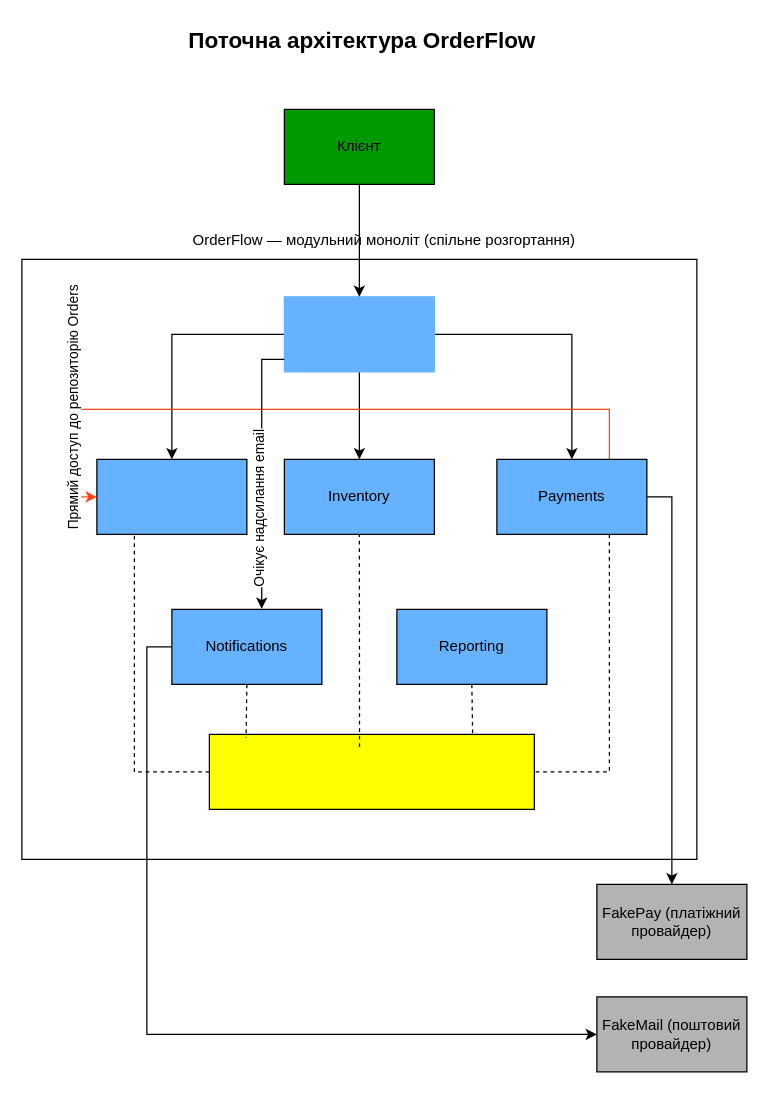
The diagram is 769 pixels wide and 1094 high, and some of its shapes have lost their labels. The shapes that lost their labels are listed below. From the top down, each one's centre as x and y in pixels, then its label:
At [358,334]: "Checkout".
At [171,496]: "Orders".
At [371,771]: "Спільна база даних".
